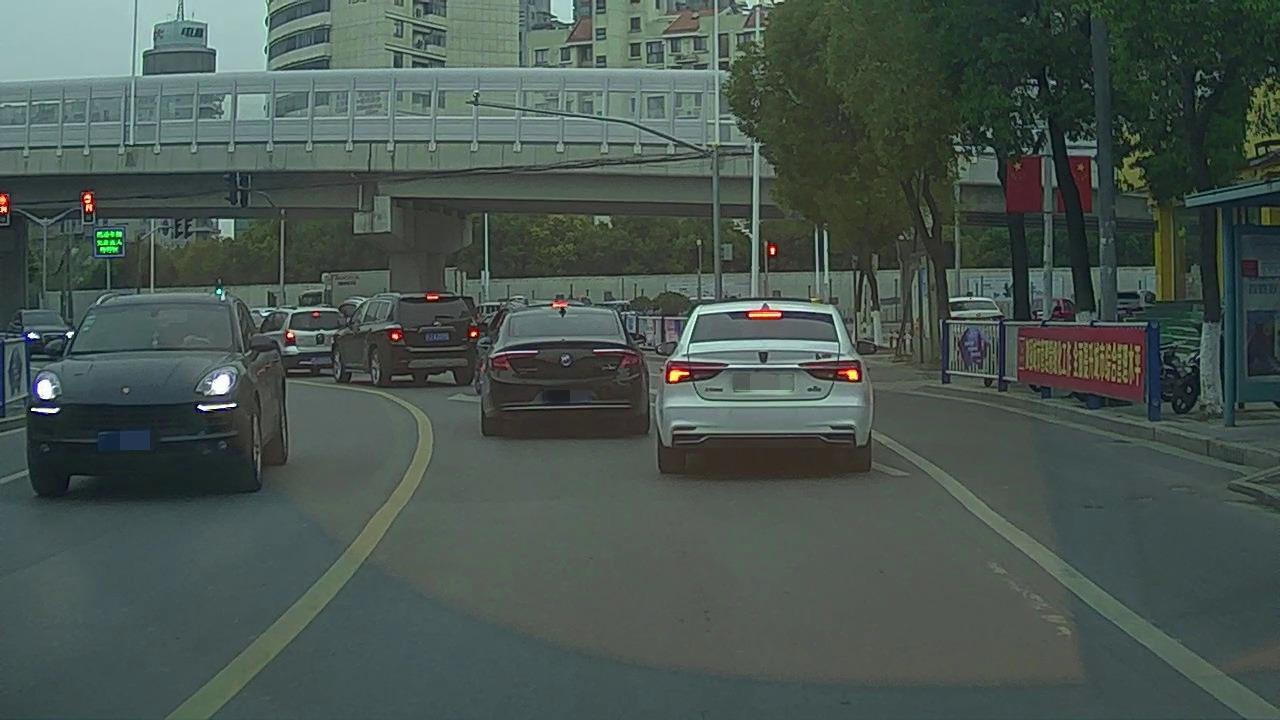traffic_light: (80, 193, 95, 224), (1, 197, 10, 224)
